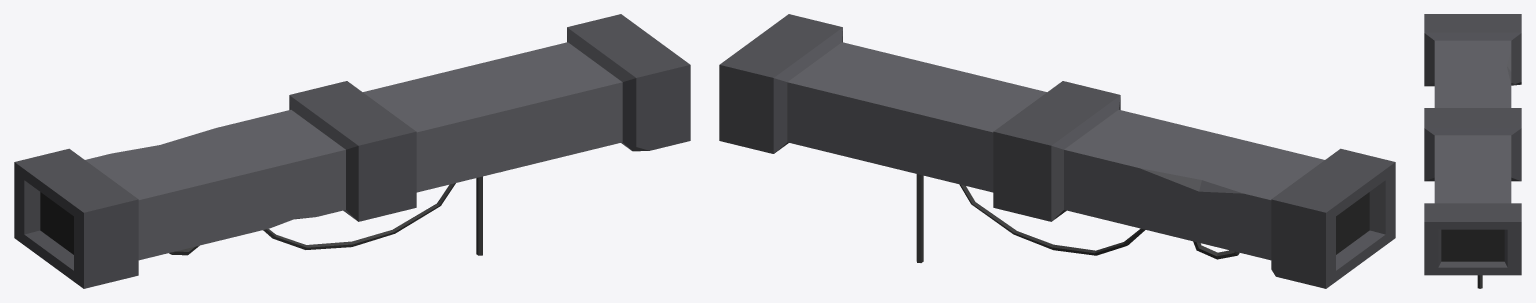
File: SM_Prop_Detail_CeilingBox_03.fbx
The picture shows the model from 3 angles, left to right: view 1: azimuth 30°, elevation 25°; view 2: azimuth 150°, elevation 25°; view 3: azimuth 270°, elevation 25°; orthographic projection. The views are drawn at different scales.
Parts seen in each view (by area): view 1: SM_Prop_Detail_CeilingBox_03_LOD0; view 2: SM_Prop_Detail_CeilingBox_03_LOD0; view 3: SM_Prop_Detail_CeilingBox_03_LOD0.
Boxes of the visible parts, box(x1,y1,x2,y2) form: SM_Prop_Detail_CeilingBox_03_LOD0: box(14, 14, 690, 288); SM_Prop_Detail_CeilingBox_03_LOD0: box(719, 14, 1395, 288); SM_Prop_Detail_CeilingBox_03_LOD0: box(1424, 14, 1521, 288).
Bounding box in the file's own units: 99.04 × 500 × 140.
Materials: 1 (1 with a texture image).
